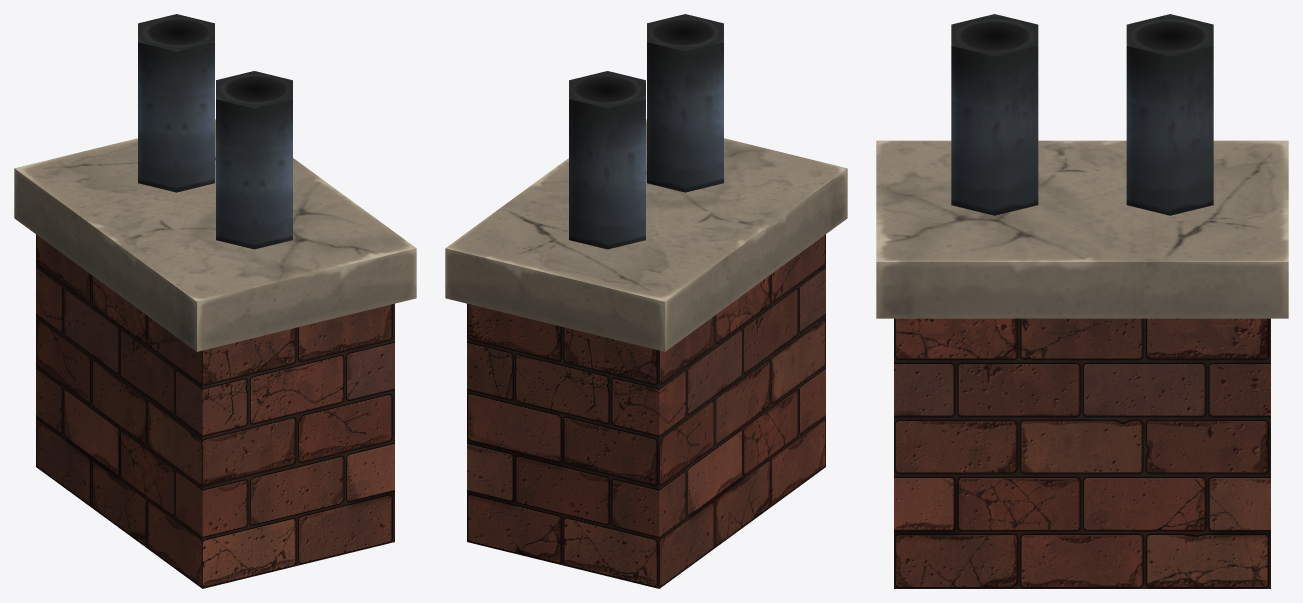
File: chimney_roof03.fbx
The picture shows the model from 3 angles, left to right: view 1: azimuth 30°, elevation 25°; view 2: azimuth 150°, elevation 25°; view 3: azimuth 270°, elevation 25°; orthographic projection. The views are drawn at different scales.
Parts seen in each view (by area): view 1: chimney_roof03; view 2: chimney_roof03; view 3: chimney_roof03.
Part boxes in pixels (x1,y1,x2,y2): chimney_roof03: [14, 14, 416, 588]; chimney_roof03: [445, 14, 847, 588]; chimney_roof03: [876, 14, 1288, 588].
Bounding box in the file's own units: 114 × 220 × 164.
